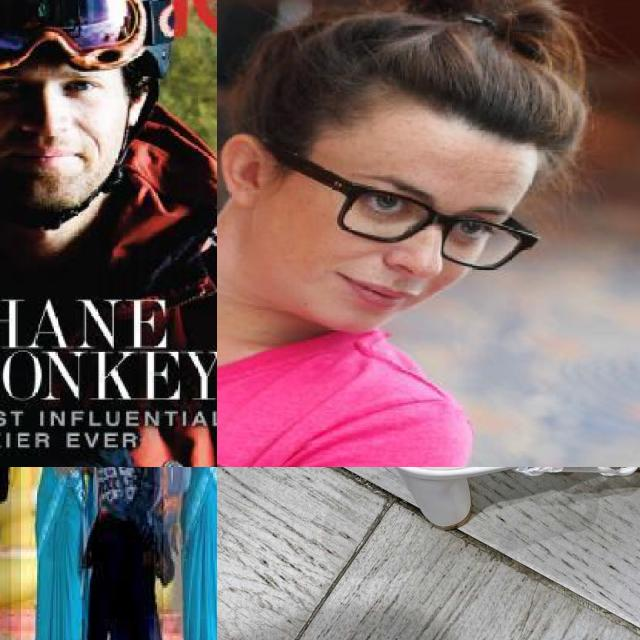No_Ear-Protection: (217, 125, 278, 212)
Sandals: (330, 467, 640, 549)
face_nomask: (322, 160, 494, 323), (0, 63, 112, 184)
glasses: (268, 138, 509, 260), (0, 0, 154, 66)
head_nohelmet: (287, 0, 588, 151)
person: (217, 0, 555, 467), (81, 467, 155, 640), (21, 467, 88, 640), (163, 467, 217, 640)
